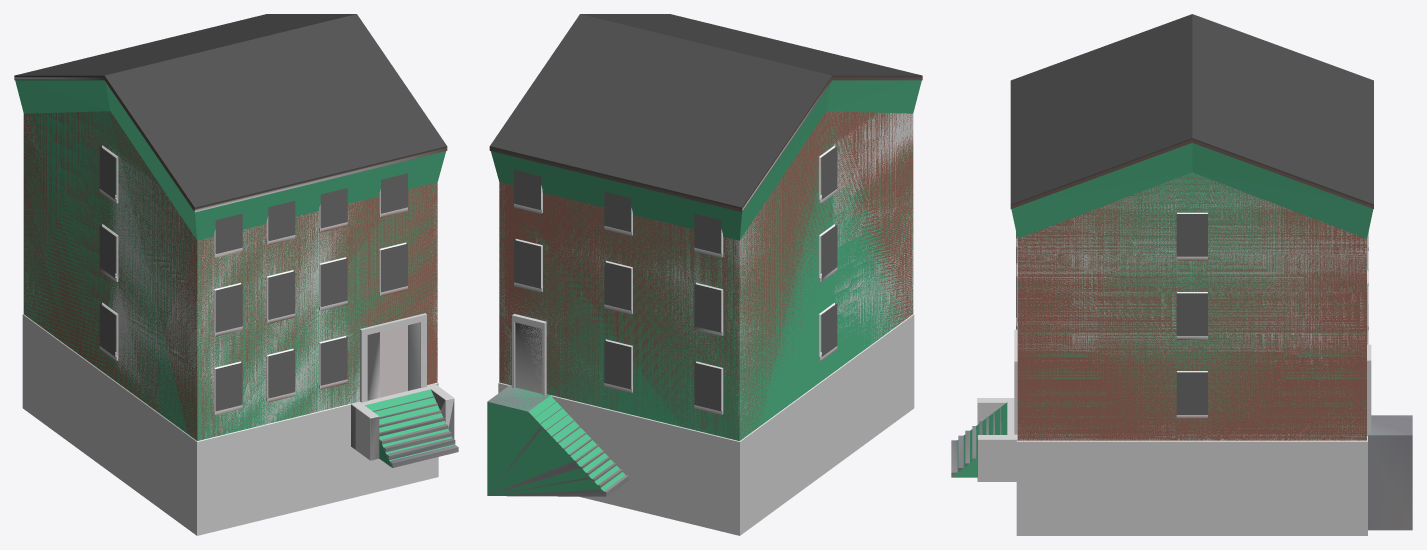
Rendered from eca_bld_townblock_a.dae.
3 renders of one model, left to right at view 1: azimuth 30°, elevation 25°; view 2: azimuth 150°, elevation 25°; view 3: azimuth 270°, elevation 25°, orthographic.
Visible parts, largest first — view 1: ind_bld_a400, ind_bld_a100, Colmesh-1; view 2: ind_bld_a400, ind_bld_a100, Colmesh-1; view 3: ind_bld_a400, ind_bld_a100, Colmesh-1.
Boxes of the visible parts, x1,y1,x2,y2 form: ind_bld_a400: (14, 14, 454, 535); ind_bld_a100: (14, 77, 458, 467); Colmesh-1: (15, 80, 455, 467); ind_bld_a400: (489, 14, 922, 535); ind_bld_a100: (487, 77, 922, 496); Colmesh-1: (487, 80, 921, 495); ind_bld_a400: (977, 14, 1373, 535); ind_bld_a100: (951, 139, 1412, 530); Colmesh-1: (951, 143, 1412, 477).
Size of the model in its own units: 8.4 by 13.21 by 12.65.
